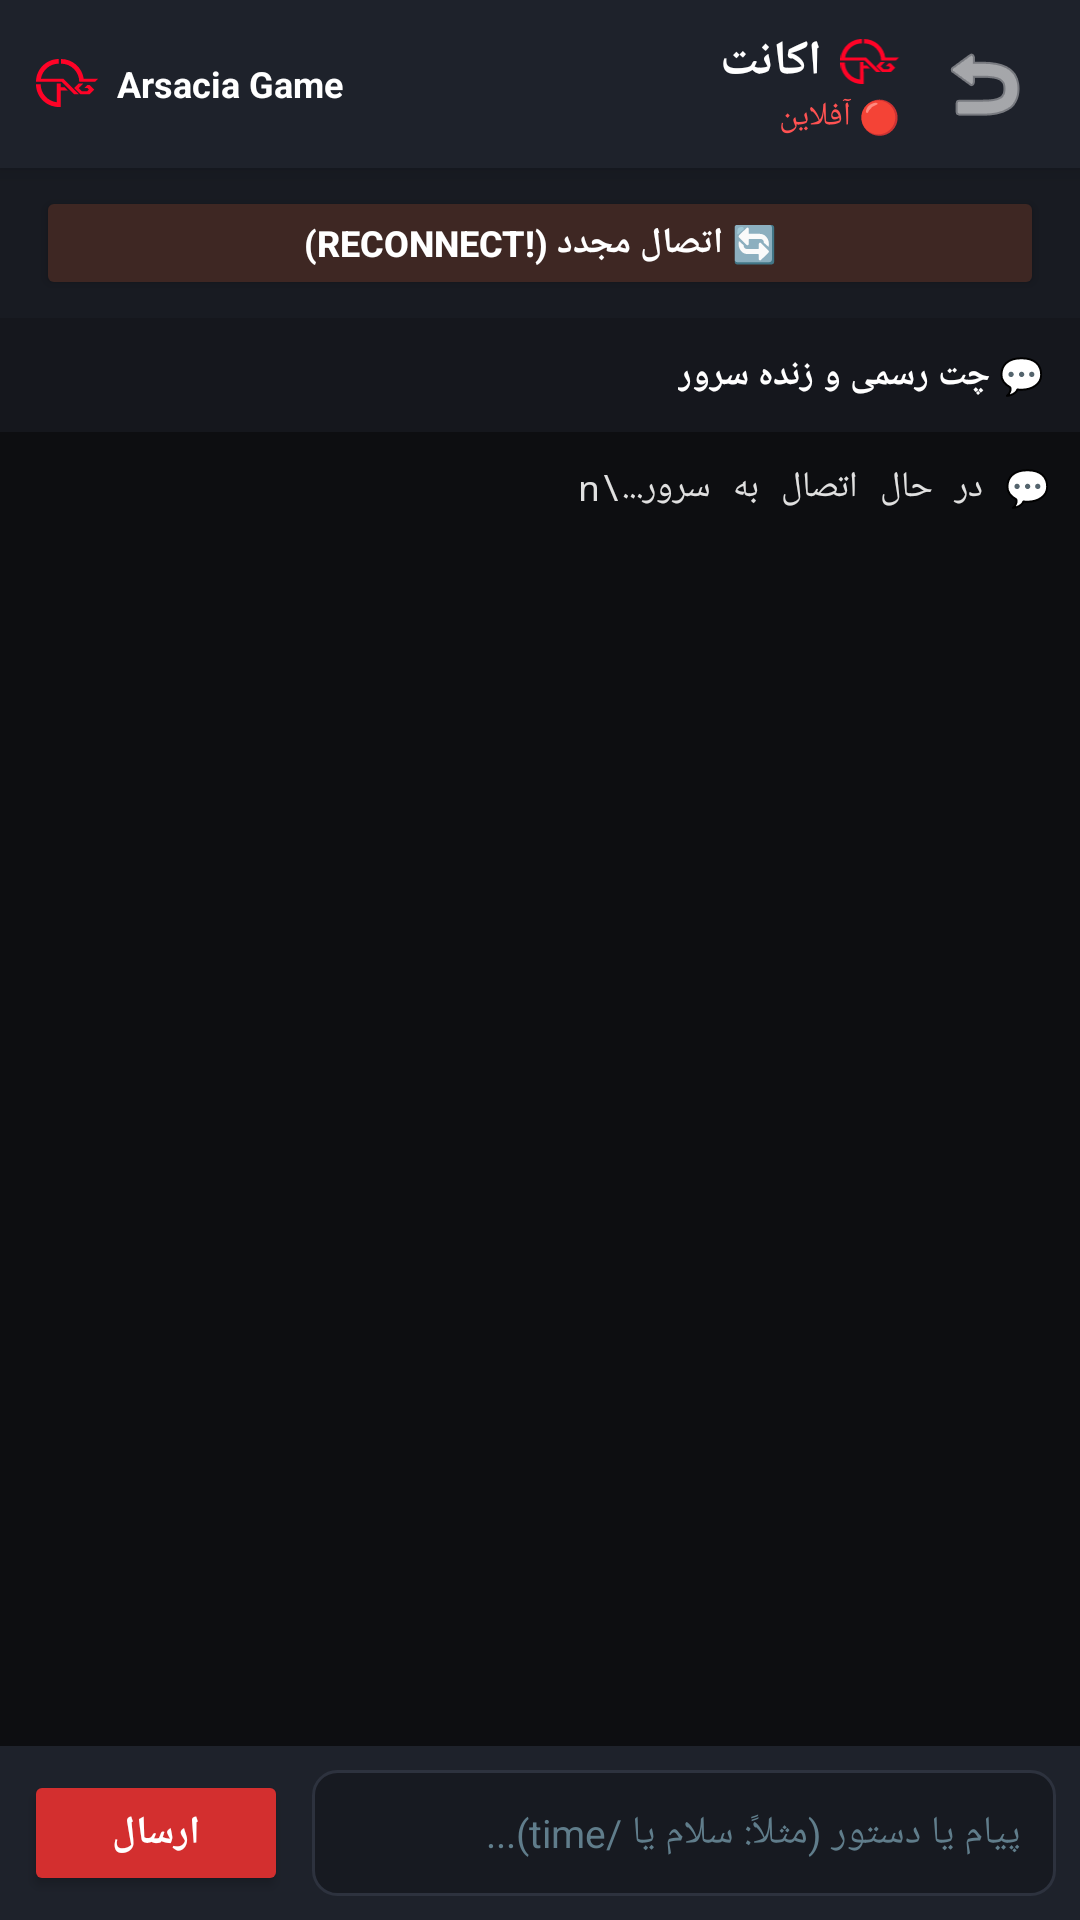

Named icons in this screenshot (1080px x 1920px) and their centers, (x=x, y=y):
بازگشت: (x=985, y=84)
